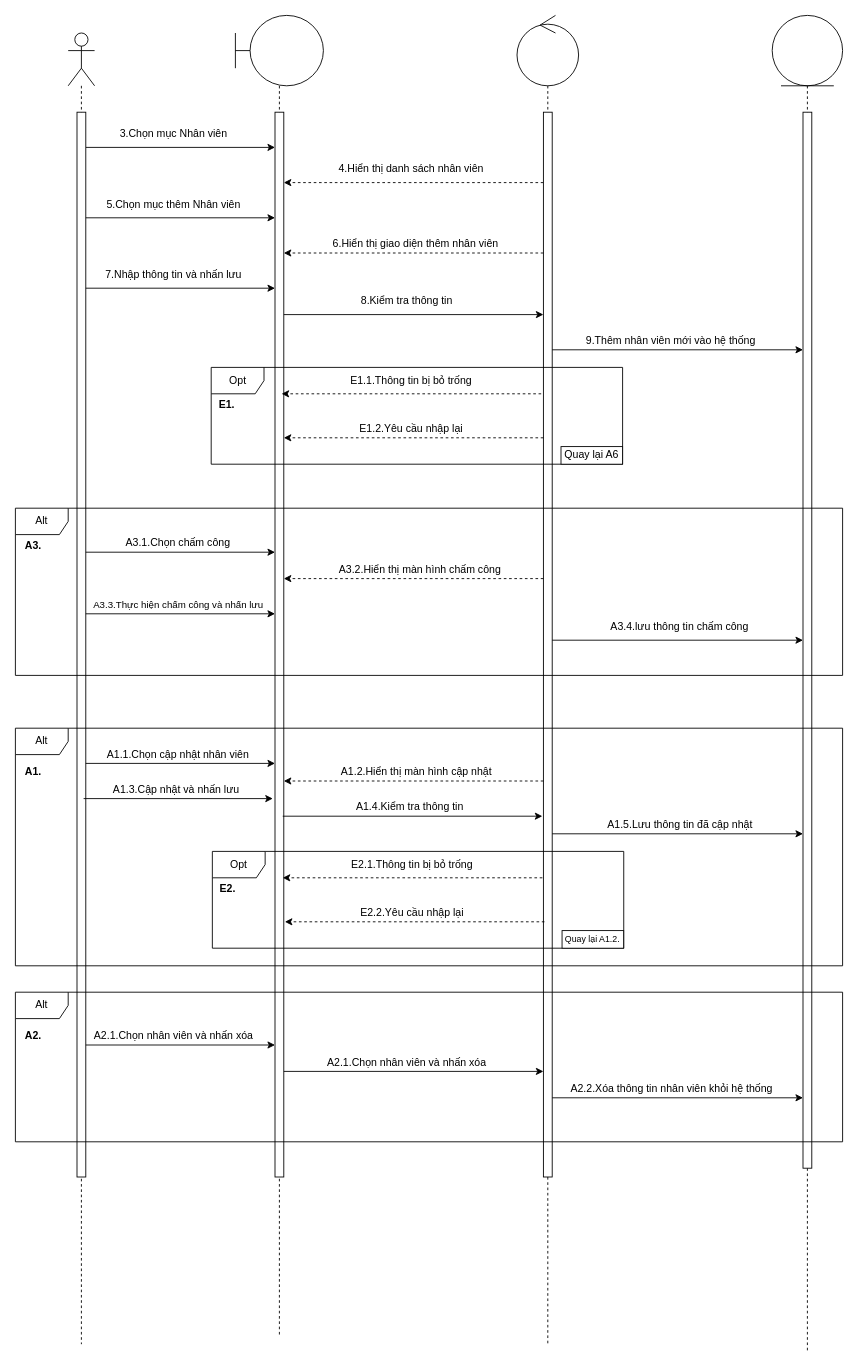
The diagram is 858 pixels wide and 1369 high, and some of its shapes have lost their labels. Each missing label, with the centre of its shape:
Actor: the point at 81,59
Database: the point at 807,50
Quản lý nhân viên: the point at 279,50
Xử lý: the point at 547,50
